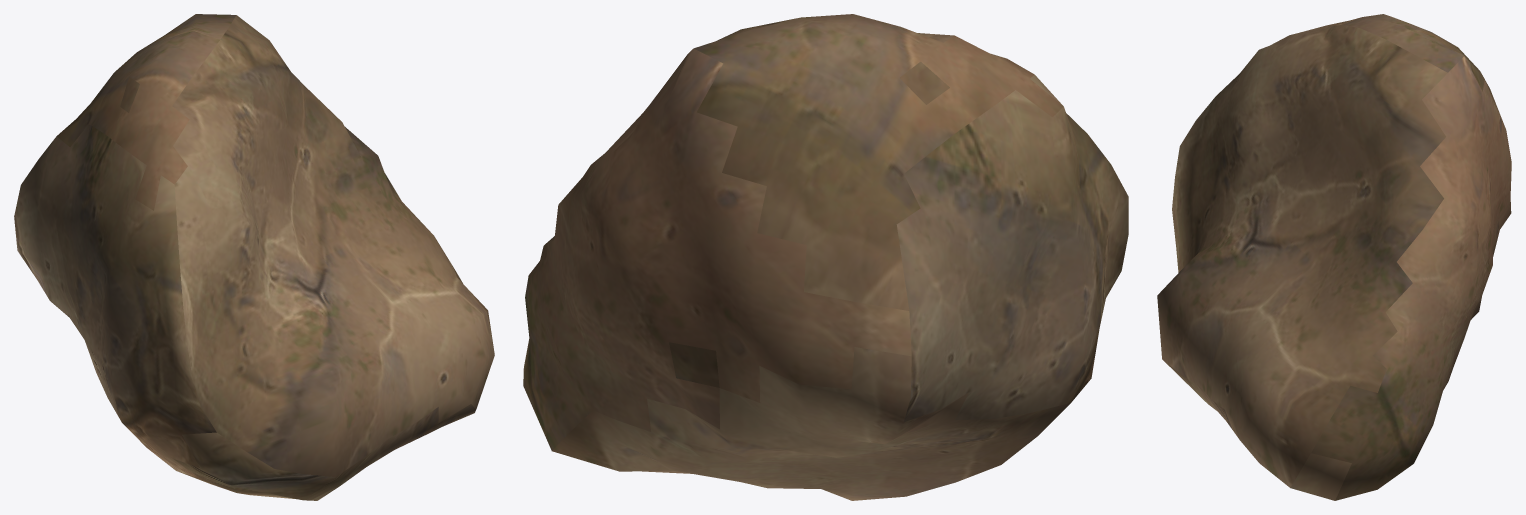
The model's file is Rock-5-tex.fbx.
3 renders of one model, left to right at view 1: azimuth 30°, elevation 25°; view 2: azimuth 150°, elevation 25°; view 3: azimuth 270°, elevation 25°, orthographic. The views are drawn at different scales.
Visible parts, largest first — view 1: rock.003; view 2: rock.003; view 3: rock.003.
Boxes of the visible parts, <box> form: rock.003: <box>14,14,494,500</box>; rock.003: <box>523,14,1128,500</box>; rock.003: <box>1157,14,1511,500</box>.
Size of the model in its own units: 106 by 108 by 88.09.
